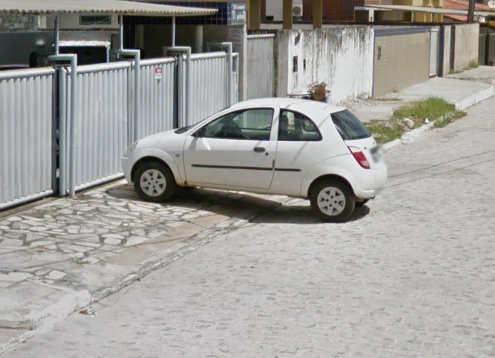car: (120, 95, 390, 223)
